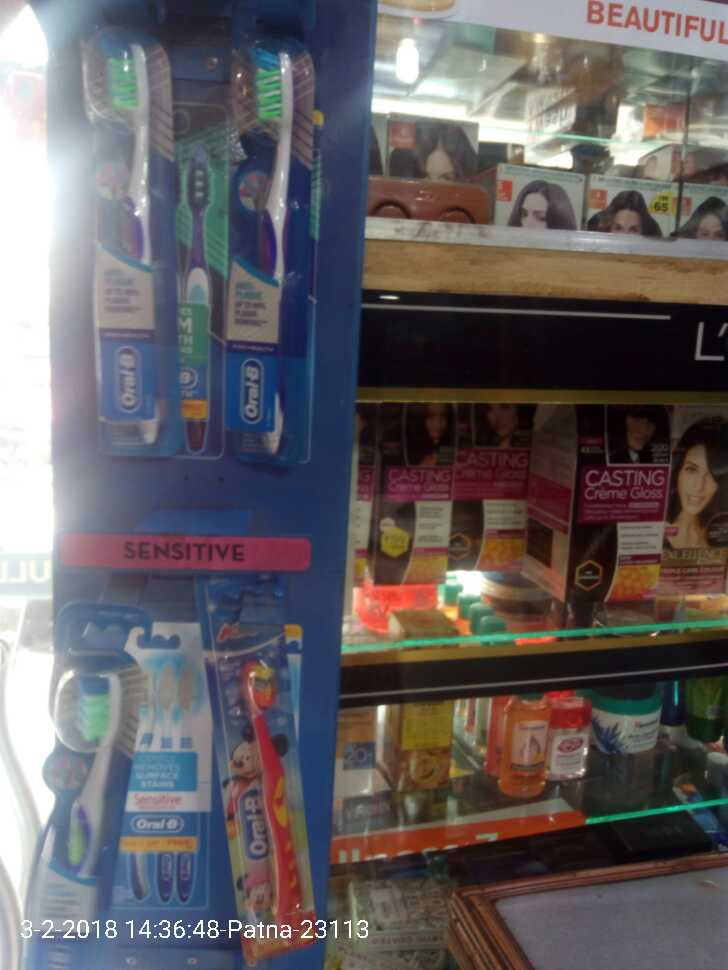oralb: (74, 47, 187, 472), (210, 630, 329, 951), (224, 52, 302, 472), (24, 660, 124, 947)
